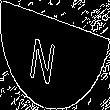N_N: (39, 26, 71, 84)
